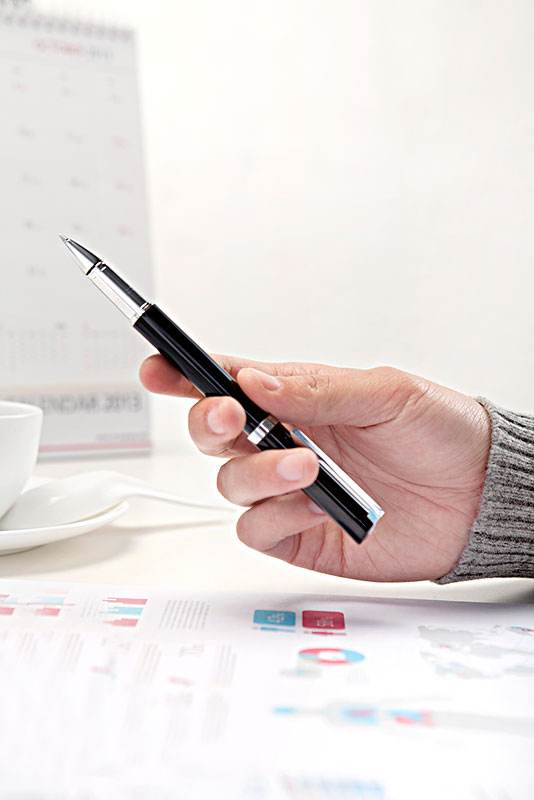no-phone: (123, 307, 480, 590)
